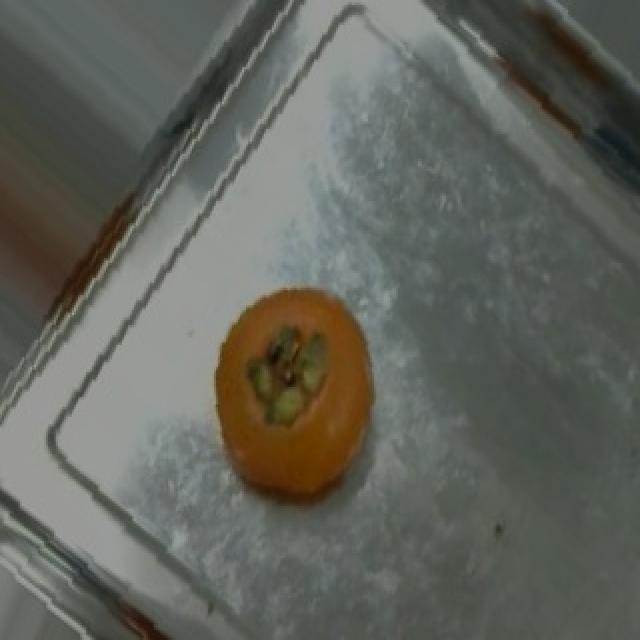Fruit: (186, 268, 398, 521)
